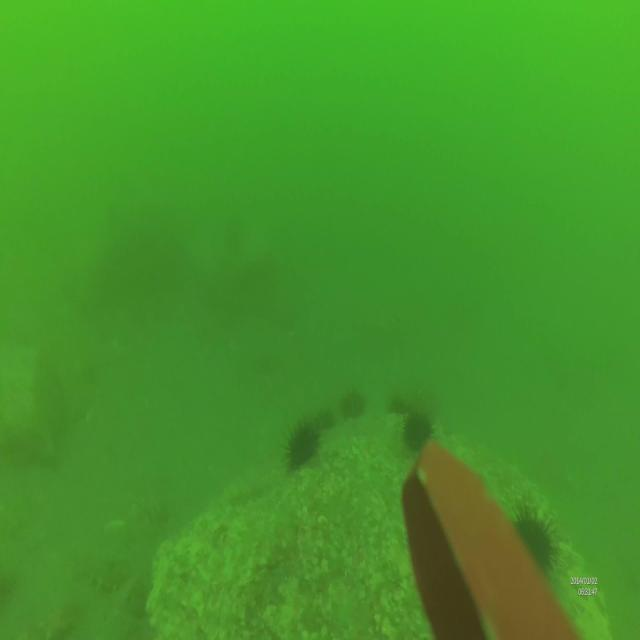echinus: (506, 494, 563, 581), (280, 417, 321, 470), (399, 409, 436, 453), (336, 385, 366, 425), (386, 390, 403, 420)
